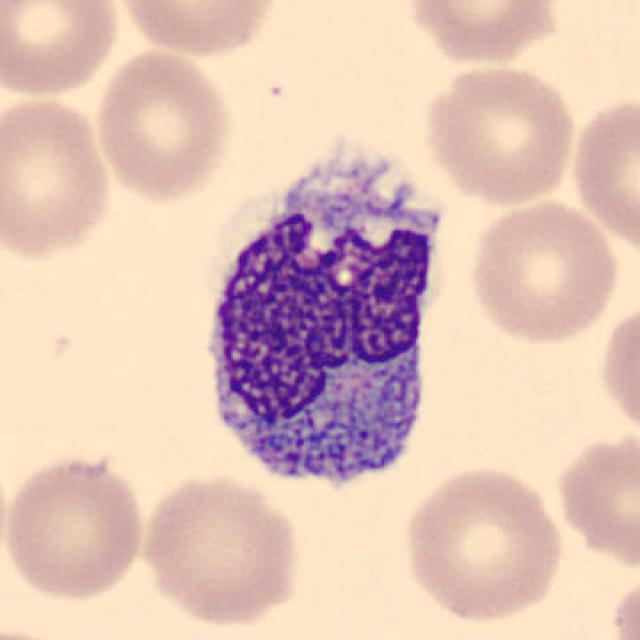Monocyte: (193, 120, 461, 503)
RBC: (398, 460, 569, 626), (135, 469, 306, 629), (464, 196, 622, 347), (420, 60, 580, 208), (90, 46, 237, 206), (0, 449, 149, 604), (0, 89, 117, 266), (551, 425, 640, 575), (567, 88, 640, 259), (0, 0, 122, 102), (402, 0, 567, 67), (112, 0, 283, 58), (594, 296, 638, 450), (606, 566, 640, 640)
